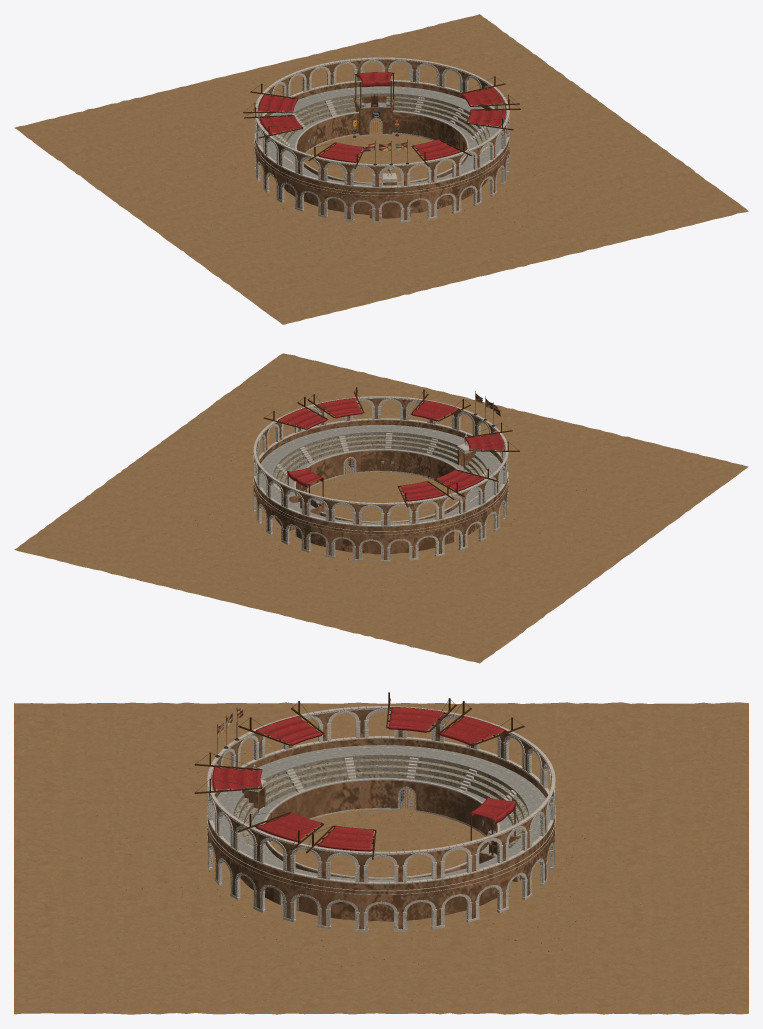
Rendered from arena-rome-v2.glb.
The picture shows the model from 3 angles, top to bottom: view 1: azimuth 30°, elevation 25°; view 2: azimuth 150°, elevation 25°; view 3: azimuth 270°, elevation 25°; orthographic projection. The views are drawn at different scales.
Visible parts, largest first — view 1: ground, arena; view 2: ground, arena; view 3: ground, arena, arena.001.
Part boxes in pixels (box(x1,y1,x2,y2)): ground: box(14, 14, 748, 324); arena: box(243, 57, 520, 223); ground: box(14, 353, 748, 663); arena: box(253, 387, 519, 562); ground: box(14, 702, 748, 1014); arena: box(194, 692, 555, 932); arena.001: box(391, 779, 422, 812).
Bounding box in the file's own units: 74.92 × 12.83 × 74.92.
Materials: 12 (10 with a texture image).
